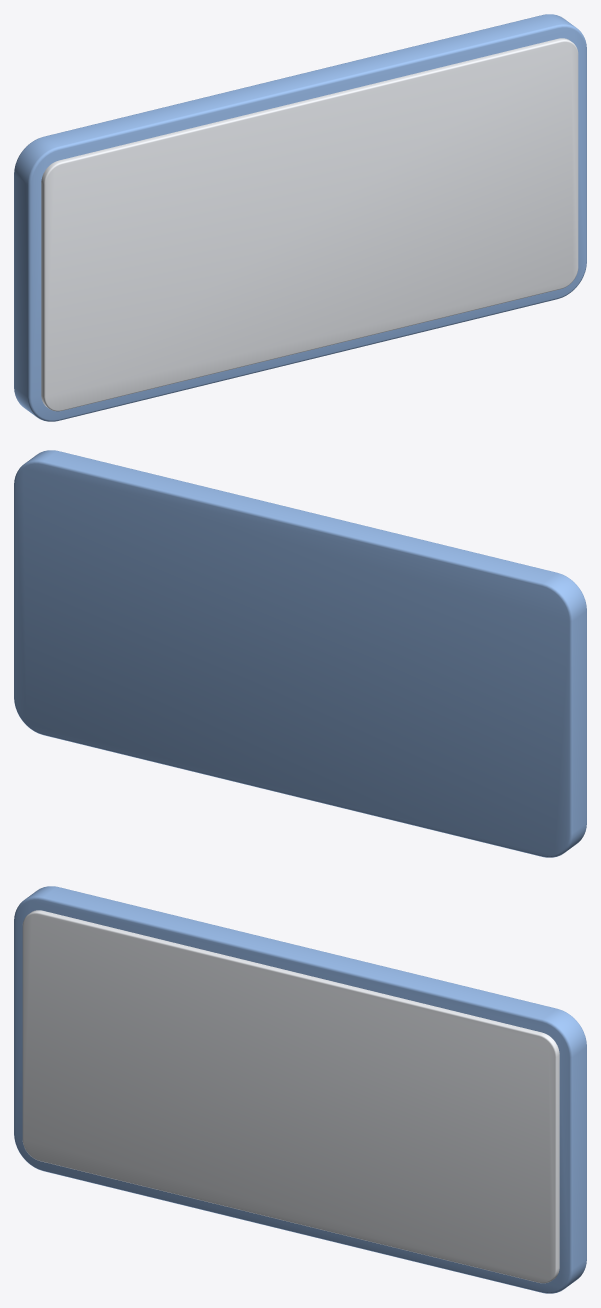
File: panel-mediano-claro.glb
The picture shows the model from 3 angles, top to bottom: view 1: azimuth 30°, elevation 25°; view 2: azimuth 150°, elevation 25°; view 3: azimuth 330°, elevation 25°; orthographic projection.
Parts seen in each view (by area): view 1: placa, borde; view 2: borde; view 3: placa, borde.
Boxes of the visible parts, x1=… form: placa: x1=41, y1=38, x2=578, y2=411; borde: x1=14, y1=14, x2=586, y2=421; borde: x1=14, y1=450, x2=586, y2=857; placa: x1=22, y1=910, x2=559, y2=1283; borde: x1=14, y1=886, x2=586, y2=1293.
Bounding box in the file's own units: 3.2 × 1.5 × 0.192.
